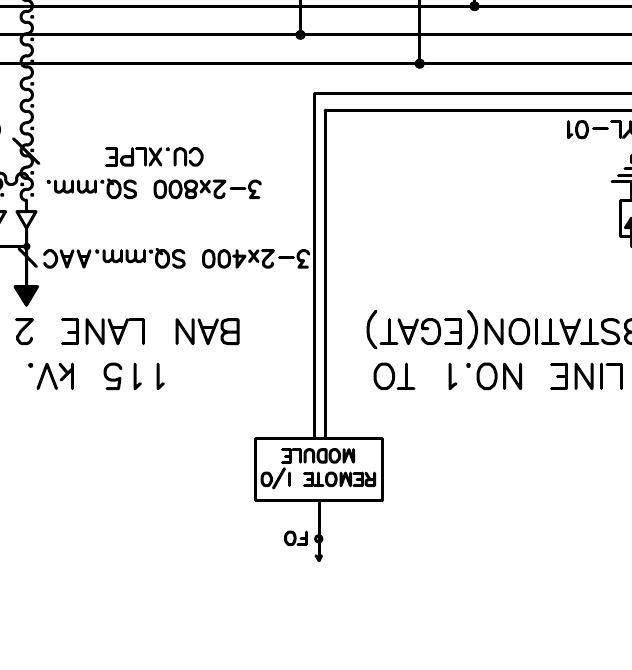remote_io_module: (254, 436, 385, 502)
